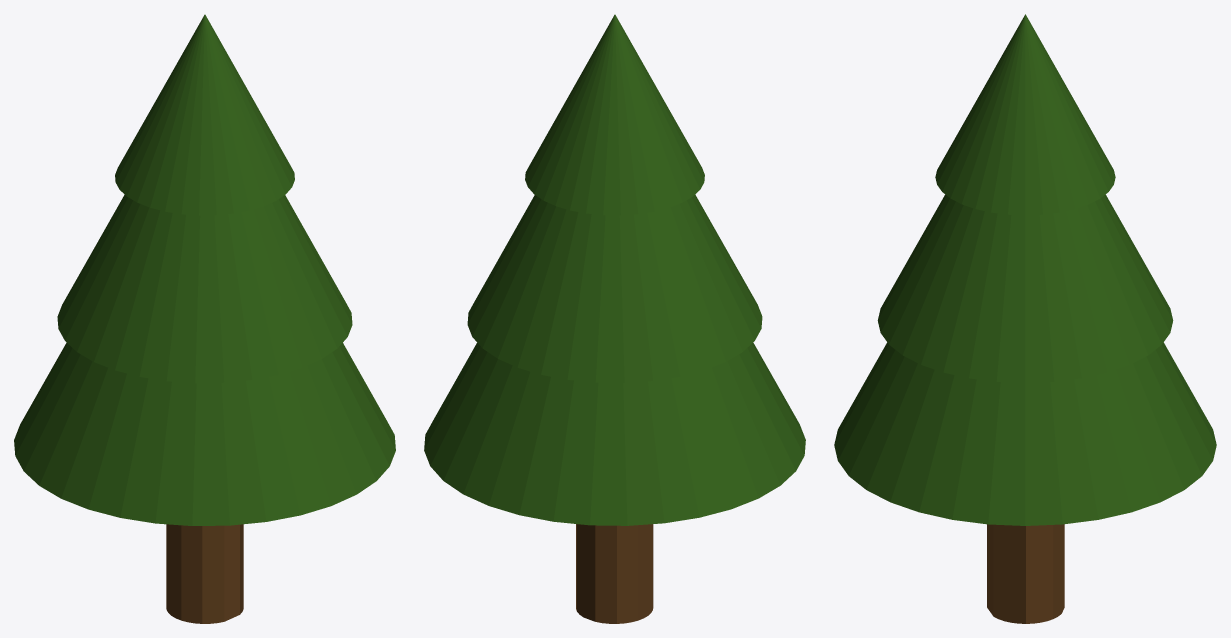
The model's file is harmless_tree.glb.
3 views of the same model, side by side, from view 1: azimuth 30°, elevation 25°; view 2: azimuth 150°, elevation 25°; view 3: azimuth 270°, elevation 25° (orthographic).
Parts seen in each view (by area): view 1: Cone, Cone.001, Cone.002, Cylinder; view 2: Cone, Cone.001, Cone.002, Cylinder; view 3: Cone, Cone.001, Cone.002, Cylinder.
Boxes of the visible parts, x1,y1,x2,y2 form: Cone: [14, 342, 395, 525]; Cone.001: [57, 194, 352, 383]; Cone.002: [115, 14, 294, 215]; Cylinder: [166, 524, 243, 623]; Cone: [424, 342, 805, 525]; Cone.001: [467, 194, 762, 382]; Cone.002: [525, 14, 704, 215]; Cylinder: [576, 524, 653, 623]; Cone: [834, 342, 1216, 525]; Cone.001: [877, 194, 1173, 382]; Cone.002: [935, 14, 1115, 215]; Cylinder: [987, 524, 1064, 623].
Bounding box in the file's own units: 2.1 × 3.6 × 2.1.
